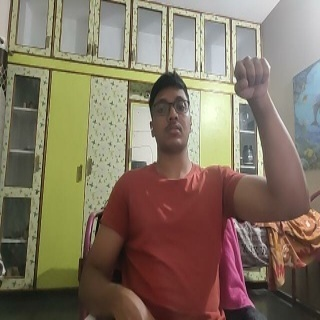Face: (149, 73, 194, 156)
Yes: (231, 54, 272, 107)
